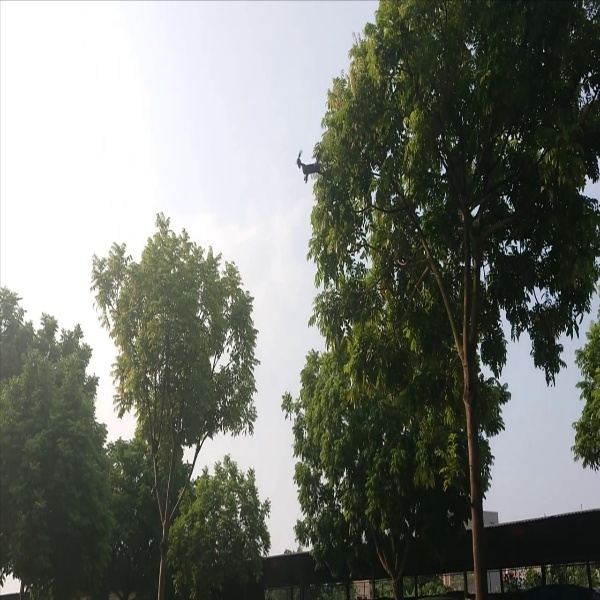drone: (292, 139, 332, 186)
